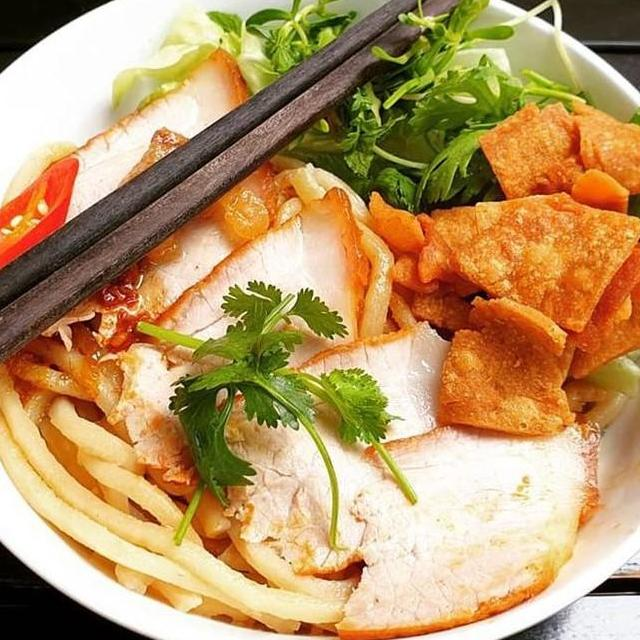banh da: (0, 304, 229, 454), (59, 194, 206, 352), (0, 423, 163, 551), (0, 253, 82, 446)
mi: (277, 0, 531, 179), (484, 37, 640, 323)
mi quang: (0, 15, 640, 640)
thit heo: (267, 150, 529, 454), (349, 302, 607, 593), (179, 58, 441, 322), (29, 0, 309, 229)
